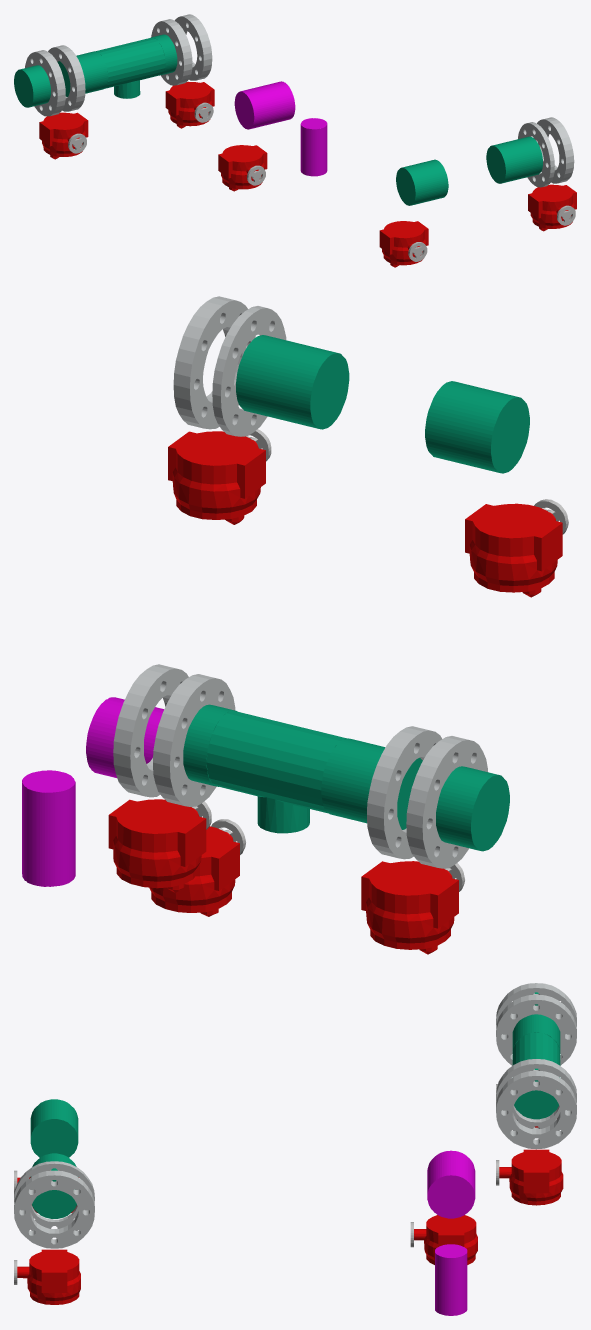
3 views of the same model, one above another, from view 1: azimuth 30°, elevation 25°; view 2: azimuth 150°, elevation 25°; view 3: azimuth 270°, elevation 25° (orthographic). The views are drawn at different scales.
Bounding box in the file's own units: 1.76 × 0.7161 × 1.98.
